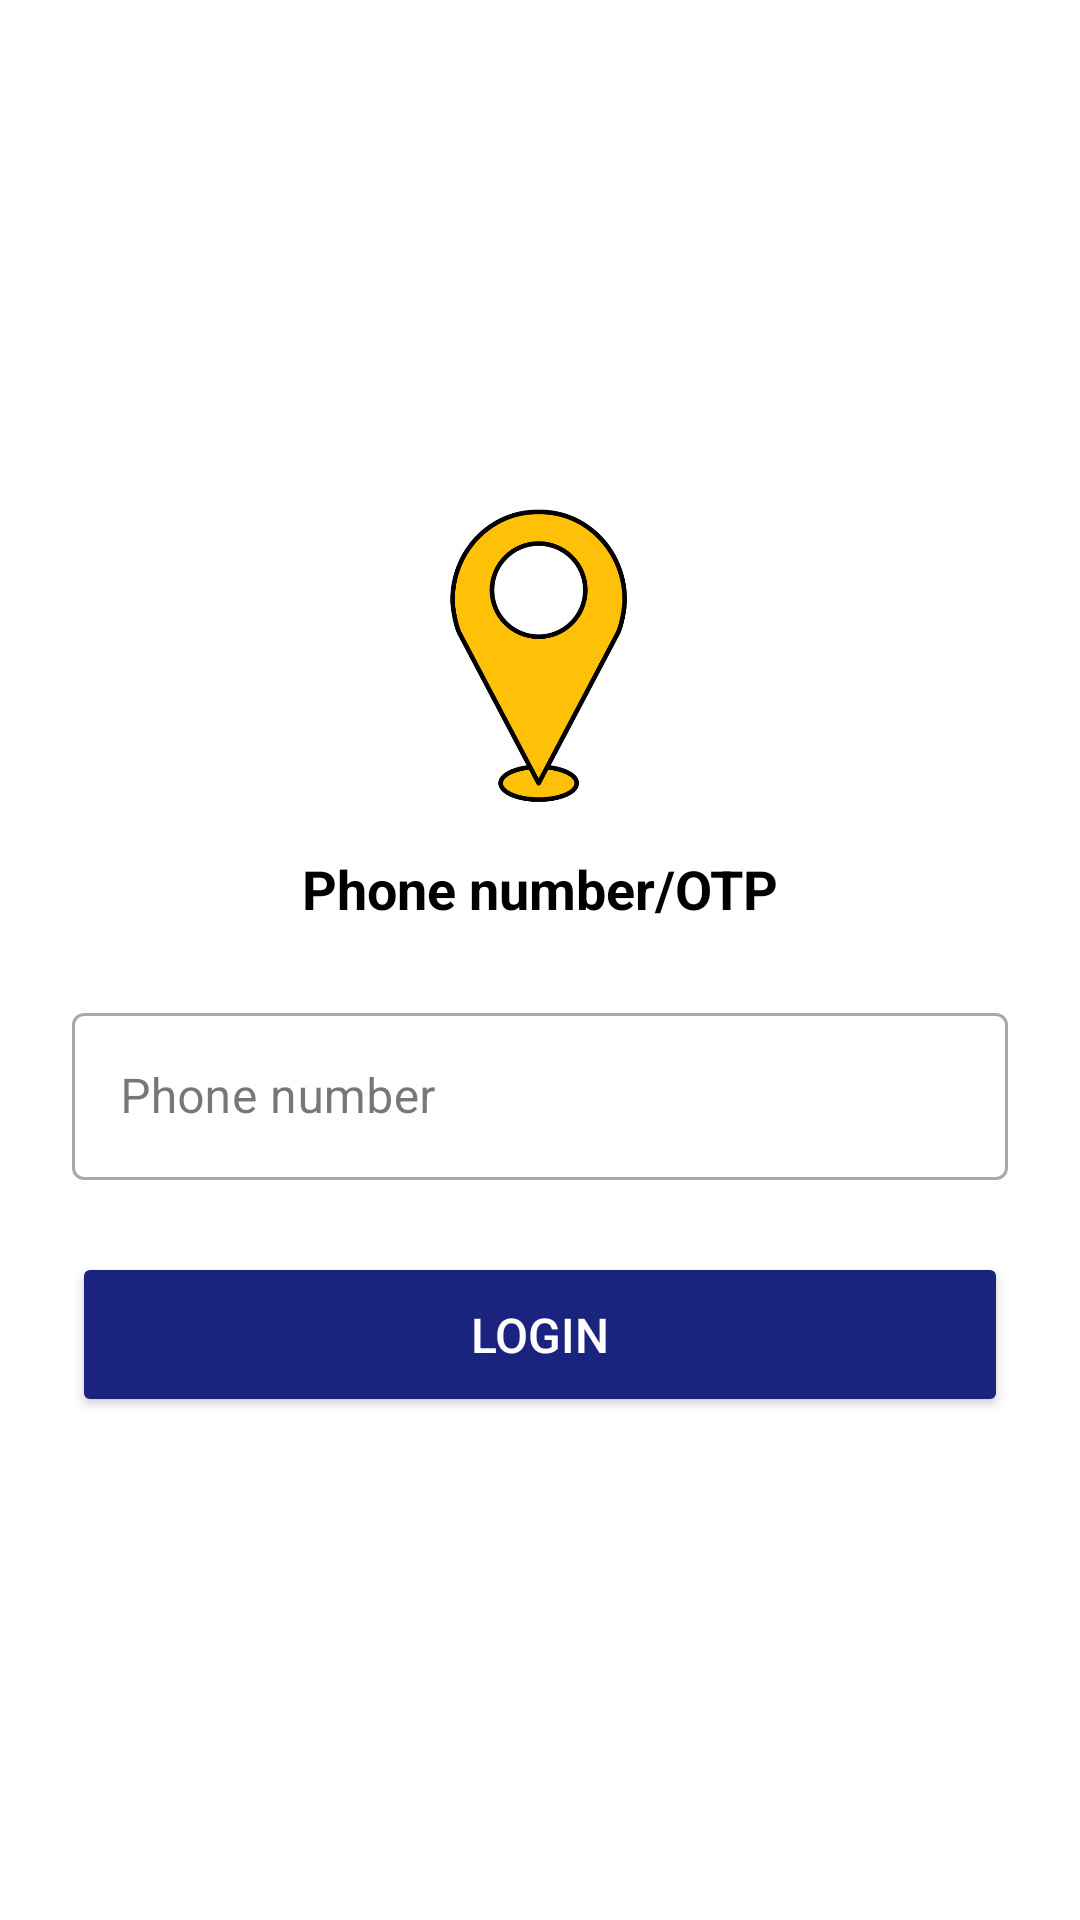

Icon bounding boxes for this 1080×1920 phone screenshot, format (x1, y1, x2, y2):
Location Pin: (450, 509, 627, 802)
